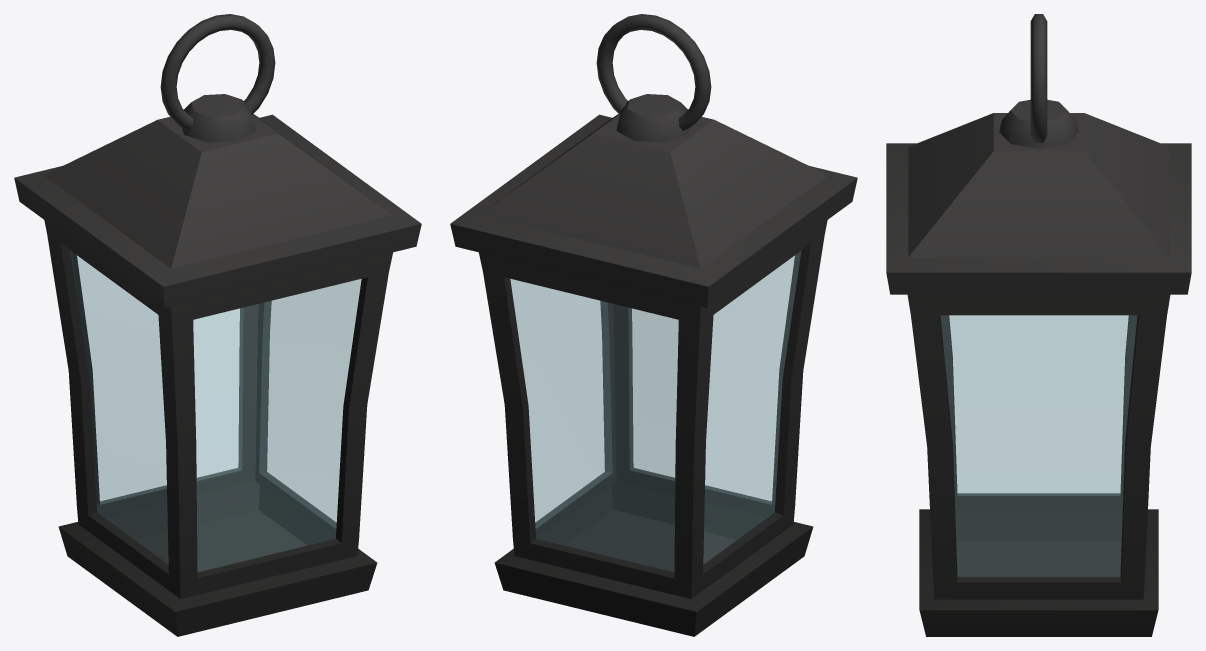
File: Lantern_Empty.fbx
3 views of the same model, side by side, from view 1: azimuth 30°, elevation 25°; view 2: azimuth 150°, elevation 25°; view 3: azimuth 270°, elevation 25° (orthographic). The views are drawn at different scales.
Parts seen in each view (by area): view 1: LanternEmpty, LanternEmptyRing; view 2: LanternEmpty, LanternEmptyRing; view 3: LanternEmpty, LanternEmptyRing.
Boxes of the visible parts, box(x1,y1,x2,y2) form: LanternEmpty: box(14, 94, 421, 636); LanternEmptyRing: box(160, 14, 275, 130); LanternEmpty: box(450, 94, 857, 636); LanternEmptyRing: box(596, 14, 711, 130); LanternEmpty: box(886, 99, 1191, 636); LanternEmptyRing: box(1030, 14, 1047, 142).
Bounding box in the file's own units: 20.22 × 41.59 × 20.22.
